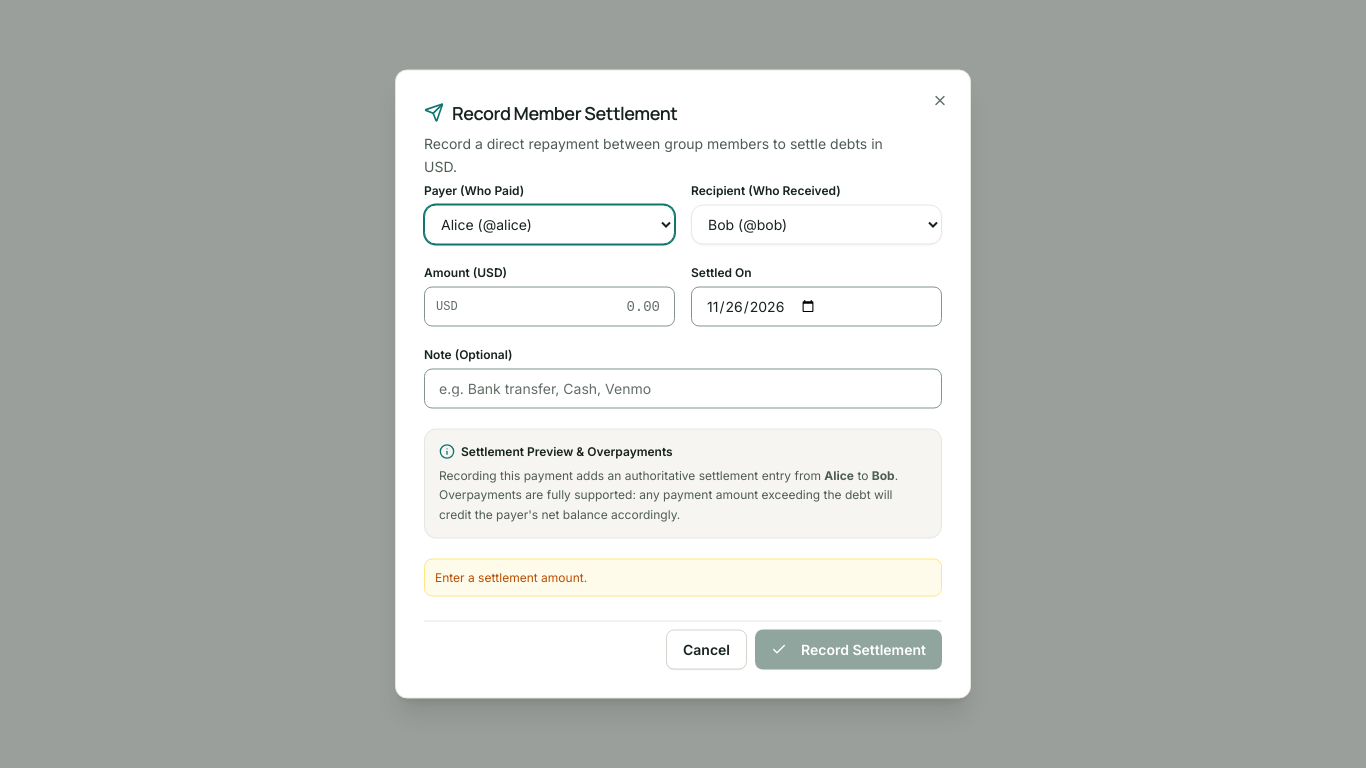
Test case: Settlements Frontend Tests › RecordSettlementDialog Component › validates positive amount and blocks submit when amount is 0 or negative
Type "0" into the field labelled "Amount (USD)". click: [550, 306]
box: [424, 286, 675, 326]
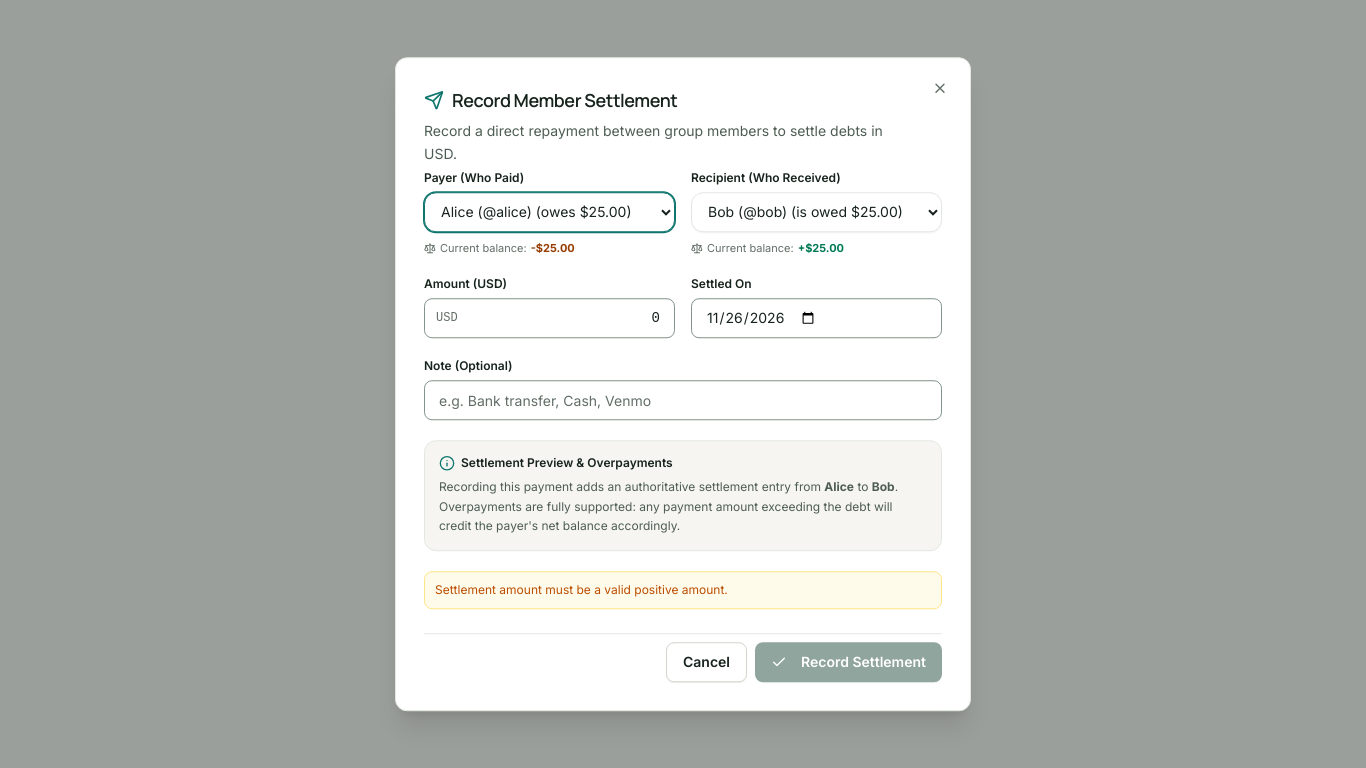
Expected: the button "Record Settlement" is disabled, [755, 642, 942, 682]
Expected: the text "Settlement amount must be a valid positive amount." is shown, [424, 571, 942, 609]
